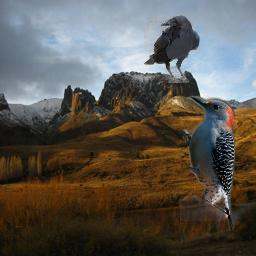Crow: (144, 15, 200, 83)
Woodpecker: (180, 93, 235, 231)
